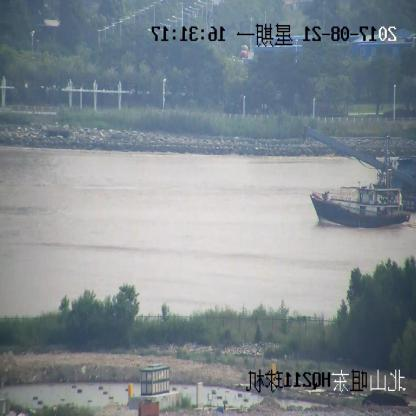Fishing Boat: (310, 170, 411, 229)
